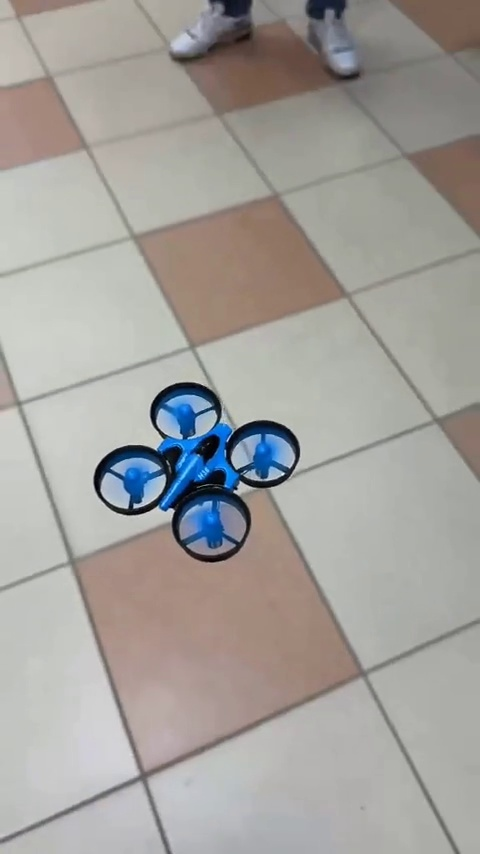drone: (86, 382, 300, 565)
